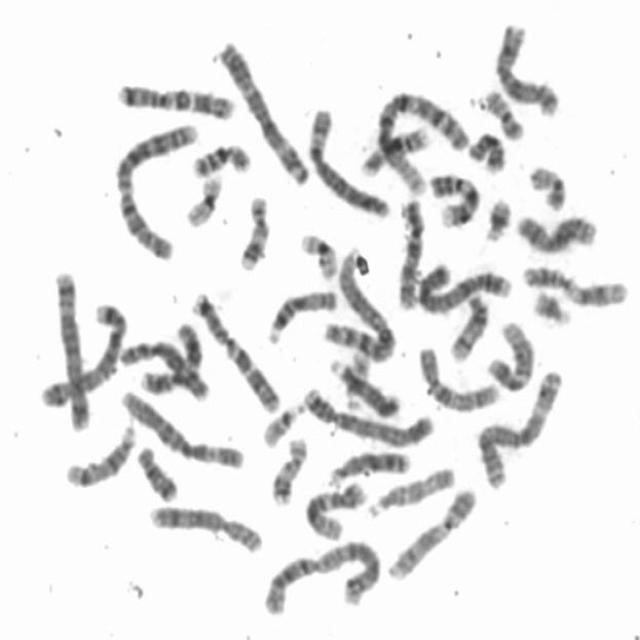A1: (372, 86, 470, 198), (327, 245, 398, 364)
A2: (111, 118, 203, 266), (257, 536, 385, 618)
A3: (216, 37, 311, 186), (473, 366, 564, 490)
B4: (300, 383, 433, 448), (414, 260, 513, 314)
B5: (36, 296, 130, 410), (52, 265, 92, 434)
C10: (414, 342, 501, 414), (394, 194, 428, 312)
C11: (137, 318, 202, 397), (518, 262, 628, 308)
C12: (302, 479, 368, 541), (483, 317, 535, 394)
C6: (117, 387, 246, 470), (304, 103, 391, 219)
C7: (188, 287, 281, 413), (112, 79, 237, 121)
C8: (146, 501, 264, 555), (116, 336, 211, 402)
C9: (384, 484, 479, 582), (425, 168, 481, 230)
D13: (327, 356, 402, 421), (325, 447, 411, 488)
D14: (61, 420, 138, 489), (445, 291, 491, 363)
D15: (364, 463, 456, 519), (264, 286, 339, 346)
E16: (358, 122, 432, 176), (189, 139, 252, 179)
E17: (267, 434, 308, 506), (236, 194, 272, 272)
E18: (134, 442, 178, 503), (466, 128, 506, 174)
F19: (181, 171, 225, 230), (296, 228, 339, 282)
F20: (483, 86, 525, 141), (526, 162, 568, 212)
G21: (530, 286, 573, 328), (481, 193, 514, 245)
G22: (259, 398, 305, 447), (343, 350, 372, 413)
X: (491, 20, 561, 117), (512, 207, 600, 256)
